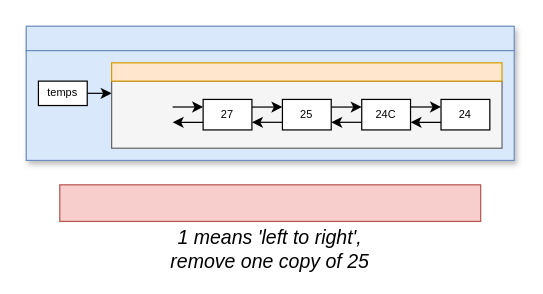
The diagram is 543 pixels wide and 294 high, and some of its shapes have lost their labels. Here are the shapes that lost their labels. From the top down, the centre of each, then its label:
At point (271, 39): "Redis".
At point (306, 71): "List".
At point (270, 202): "LREM temps 1 25".
